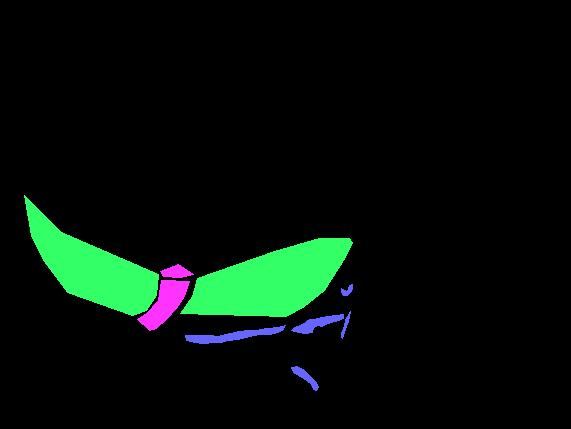Broken part: (24, 195, 158, 315), (180, 238, 352, 316)
Dent: (137, 280, 189, 330), (160, 264, 193, 277)
Scratch: (185, 325, 285, 343), (291, 314, 343, 333), (291, 366, 318, 390), (341, 311, 350, 338), (341, 284, 352, 295)
